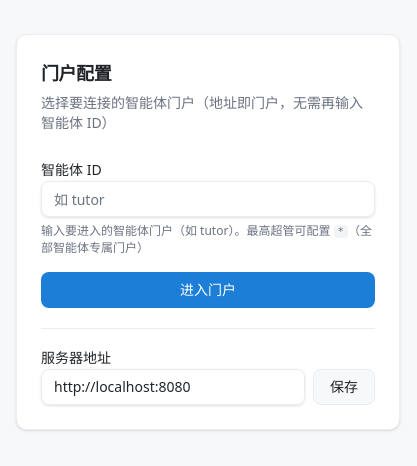
Test case: PortalConfigPage › 空 ID 提交给出具体错误提示
What coordinates should you click on to do the following:
click the button "进入门户"
I would click on:
 (208, 290)
Its box is [41, 272, 375, 308].
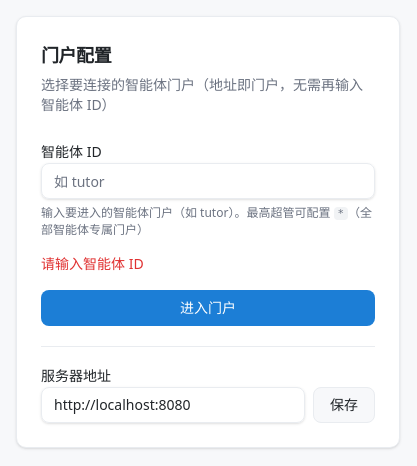
Check: the message reads "请输入智能体 ID", box [41, 254, 144, 273]
